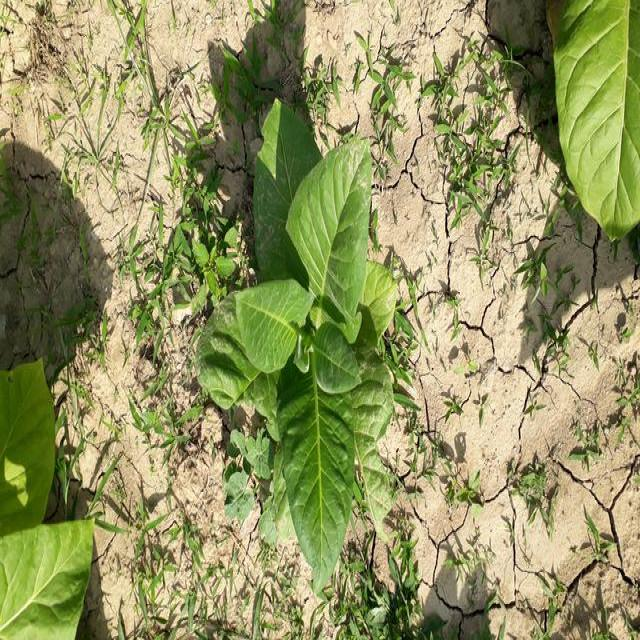crop: (220, 96, 399, 573), (4, 365, 94, 640), (548, 4, 640, 240)
